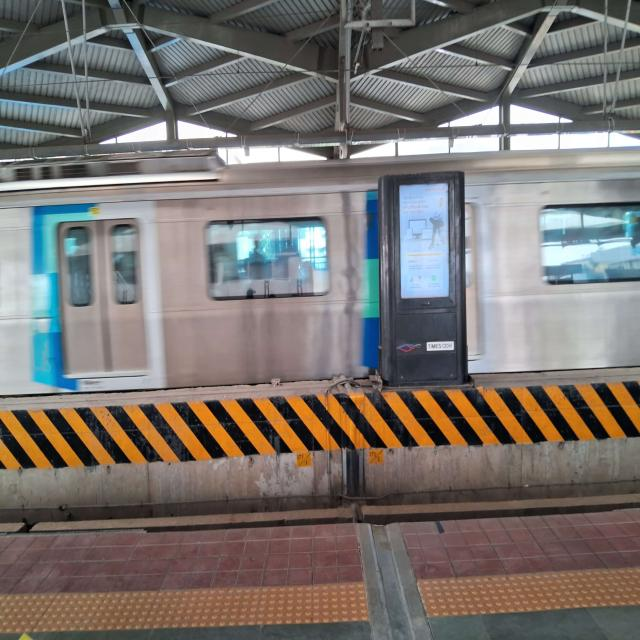train: (4, 132, 640, 422)
